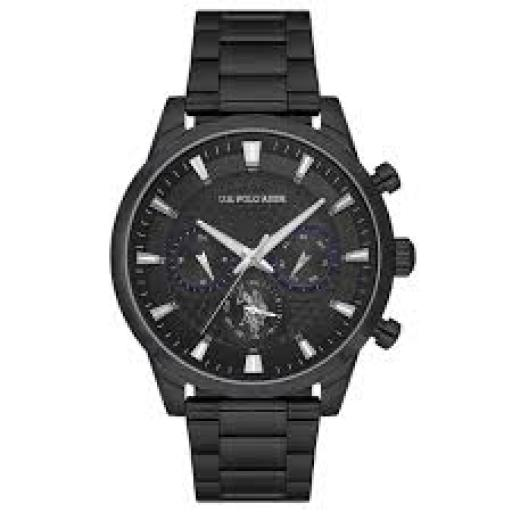KolSaati: (106, 5, 422, 509)
